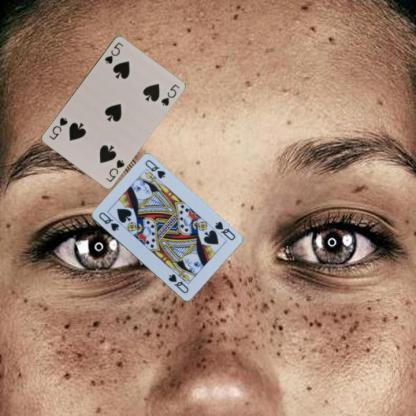5s: (101, 39, 124, 65), (103, 157, 126, 183)
Qs: (212, 219, 236, 242), (96, 210, 120, 232)
